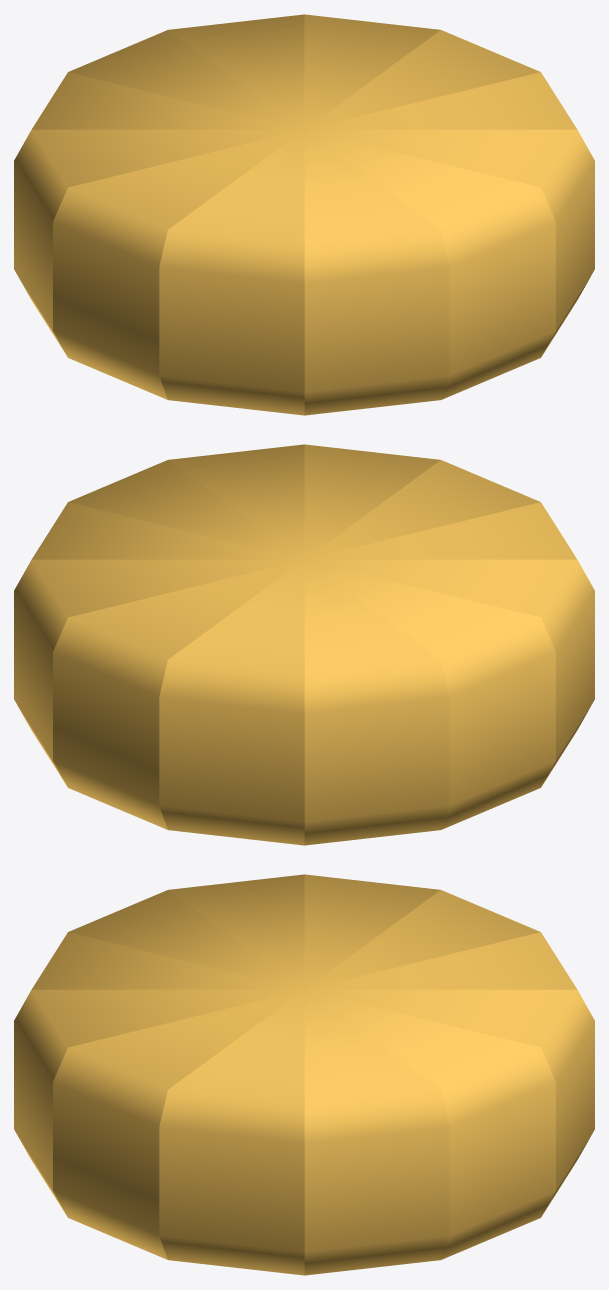
File: cheese.fbx
3 renders of one model, top to bottom at view 1: azimuth 30°, elevation 25°; view 2: azimuth 150°, elevation 25°; view 3: azimuth 270°, elevation 25°, orthographic.
Parts seen in each view (by area): view 1: wedge (×12); view 2: wedge (×12); view 3: wedge (×12).
Boxes of the visible parts, x1,y1,x2,y2 form: wedge (×12): (14, 14, 594, 415); wedge (×12): (14, 444, 594, 845); wedge (×12): (14, 874, 594, 1275).
Size of the model in its own units: 6.8 by 2.2 by 6.8.
